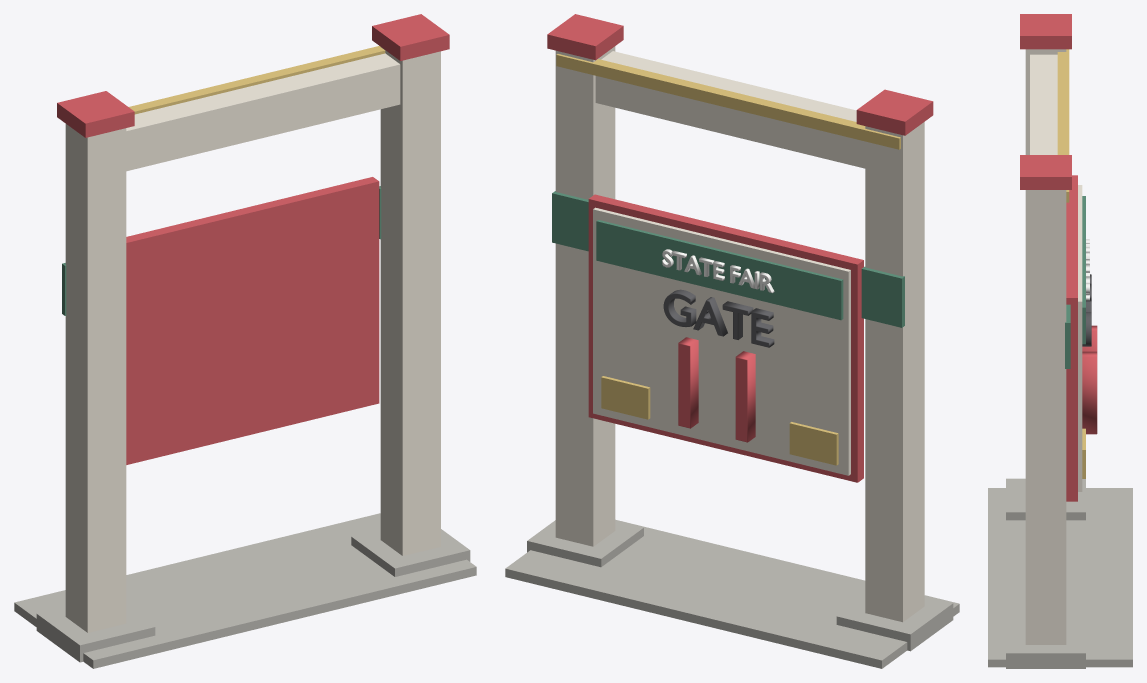
Rendered from state-fair-gate-11.glb.
3 views of the same model, side by side, from view 1: azimuth 30°, elevation 25°; view 2: azimuth 150°, elevation 25°; view 3: azimuth 270°, elevation 25° (orthographic). The views are drawn at different scales.
Parts seen in each view (by area): view 1: SFG_SignBack, SFG_PostL, SFG_PostR, SFG_Pad, SFG_HeaderBeam, SFG_FootingL, SFG_FootingR, SFG_PostCapL, SFG_PostCapR, SFG_HeaderAccent; view 2: SFG_SignFace, SFG_PostL, SFG_Pad, SFG_PostR, SFG_HeaderBeam, SFG_Ribbon, SFG_SignBack, SFG_HeaderAccent, SFG_GateNumber, SFG_FootingL, SFG_GateLabel, SFG_FootingR (+7 smaller); view 3: SFG_PostR, SFG_Pad, SFG_SignBack, SFG_FootingR, SFG_HeaderBeam, SFG_PostCapL, SFG_PostCapR, SFG_GateNumber, SFG_SignFace, SFG_HeaderAccent, SFG_FootingL, SFG_PostL (+4 smaller).
Boxes of the visible parts, x1,y1,x2,y2 form: SFG_SignBack: (126,177,379,464); SFG_PostL: (65,124,126,632); SFG_PostR: (380,47,440,555); SFG_Pad: (14,513,476,668); SFG_HeaderBeam: (126,53,400,171); SFG_FootingL: (36,606,155,662); SFG_FootingR: (351,529,470,576); SFG_PostCapL: (57,91,134,137); SFG_PostCapR: (372,14,449,60); SFG_HeaderAccent: (129,46,385,114); SFG_SignFace: (593,207,850,475); SFG_PostL: (865,122,924,622); SFG_Pad: (505,519,959,668); SFG_PostR: (555,46,615,546); SFG_HeaderBeam: (595,51,865,168); SFG_Ribbon: (596,220,843,320); SFG_SignBack: (588,194,863,482); SFG_HeaderAccent: (556,54,900,149); SFG_GateNumber: (678,337,755,442); SFG_FootingL: (836,596,953,651); SFG_GateLabel: (663,289,774,347); SFG_FootingR: (527,520,643,567); SFG_PostR: (1025,190,1066,644); SFG_Pad: (988,488,1132,667); SFG_SignBack: (1066,175,1077,501); SFG_FootingR: (1006,619,1085,668); SFG_HeaderBeam: (1030,54,1057,154); SFG_PostCapL: (1020,14,1071,49); SFG_PostCapR: (1020,155,1071,189); SFG_GateNumber: (1082,325,1097,434); SFG_SignFace: (1078,185,1082,491); SFG_HeaderAccent: (1057,49,1069,202); SFG_FootingL: (1006,478,1085,520); SFG_PostL: (1025,49,1066,154).
Bounding box in the file's own units: 2.85 × 3.7 × 1.
